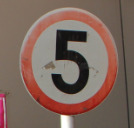speed_limit_5: (19, 7, 118, 114)
